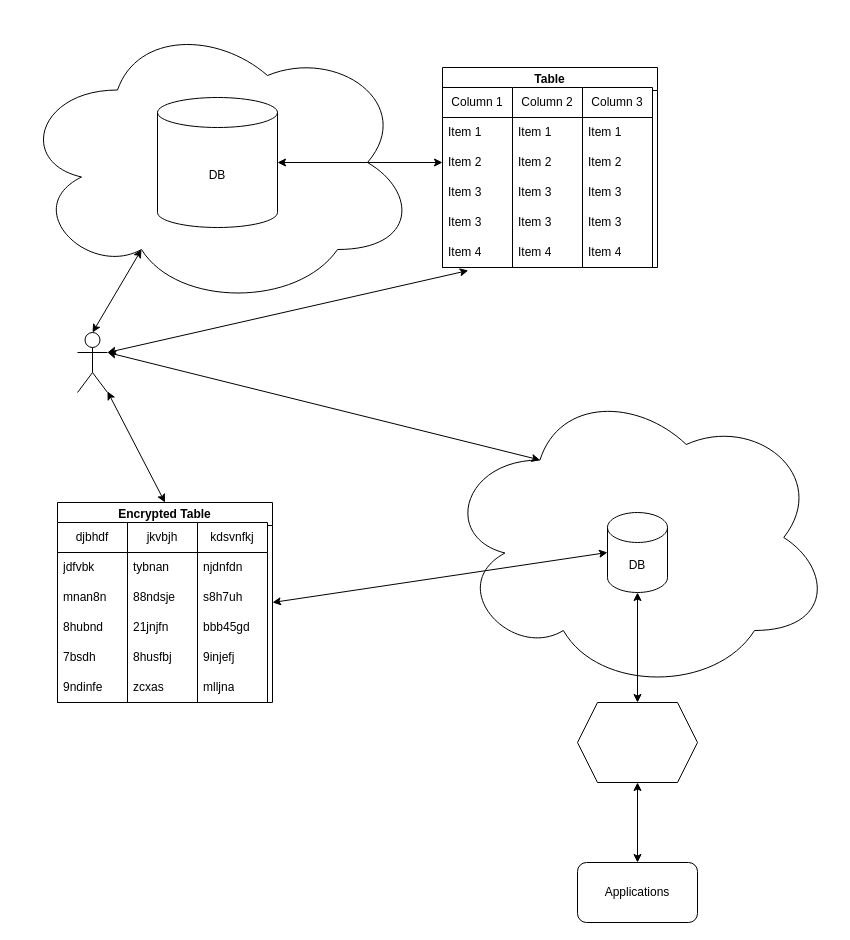
Image size: 850x940. Some labels were removed from this diagram. Here are the shapes that lost their labels. From the top down, the centre of each, then its label:
At pixel 92 362: "Government Agencies, FBI".
At pixel 637 742: "The Data Encrypter API/Middle ware".
